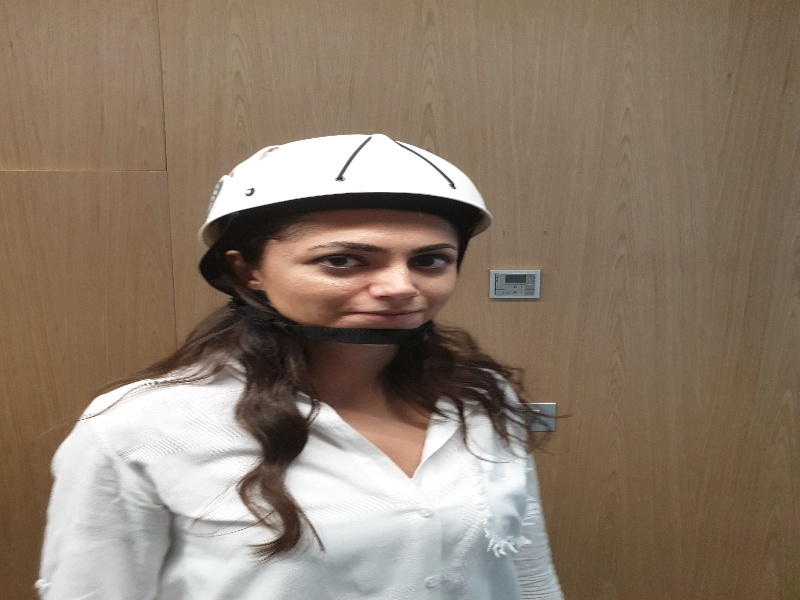Baret: (207, 135, 491, 222)
